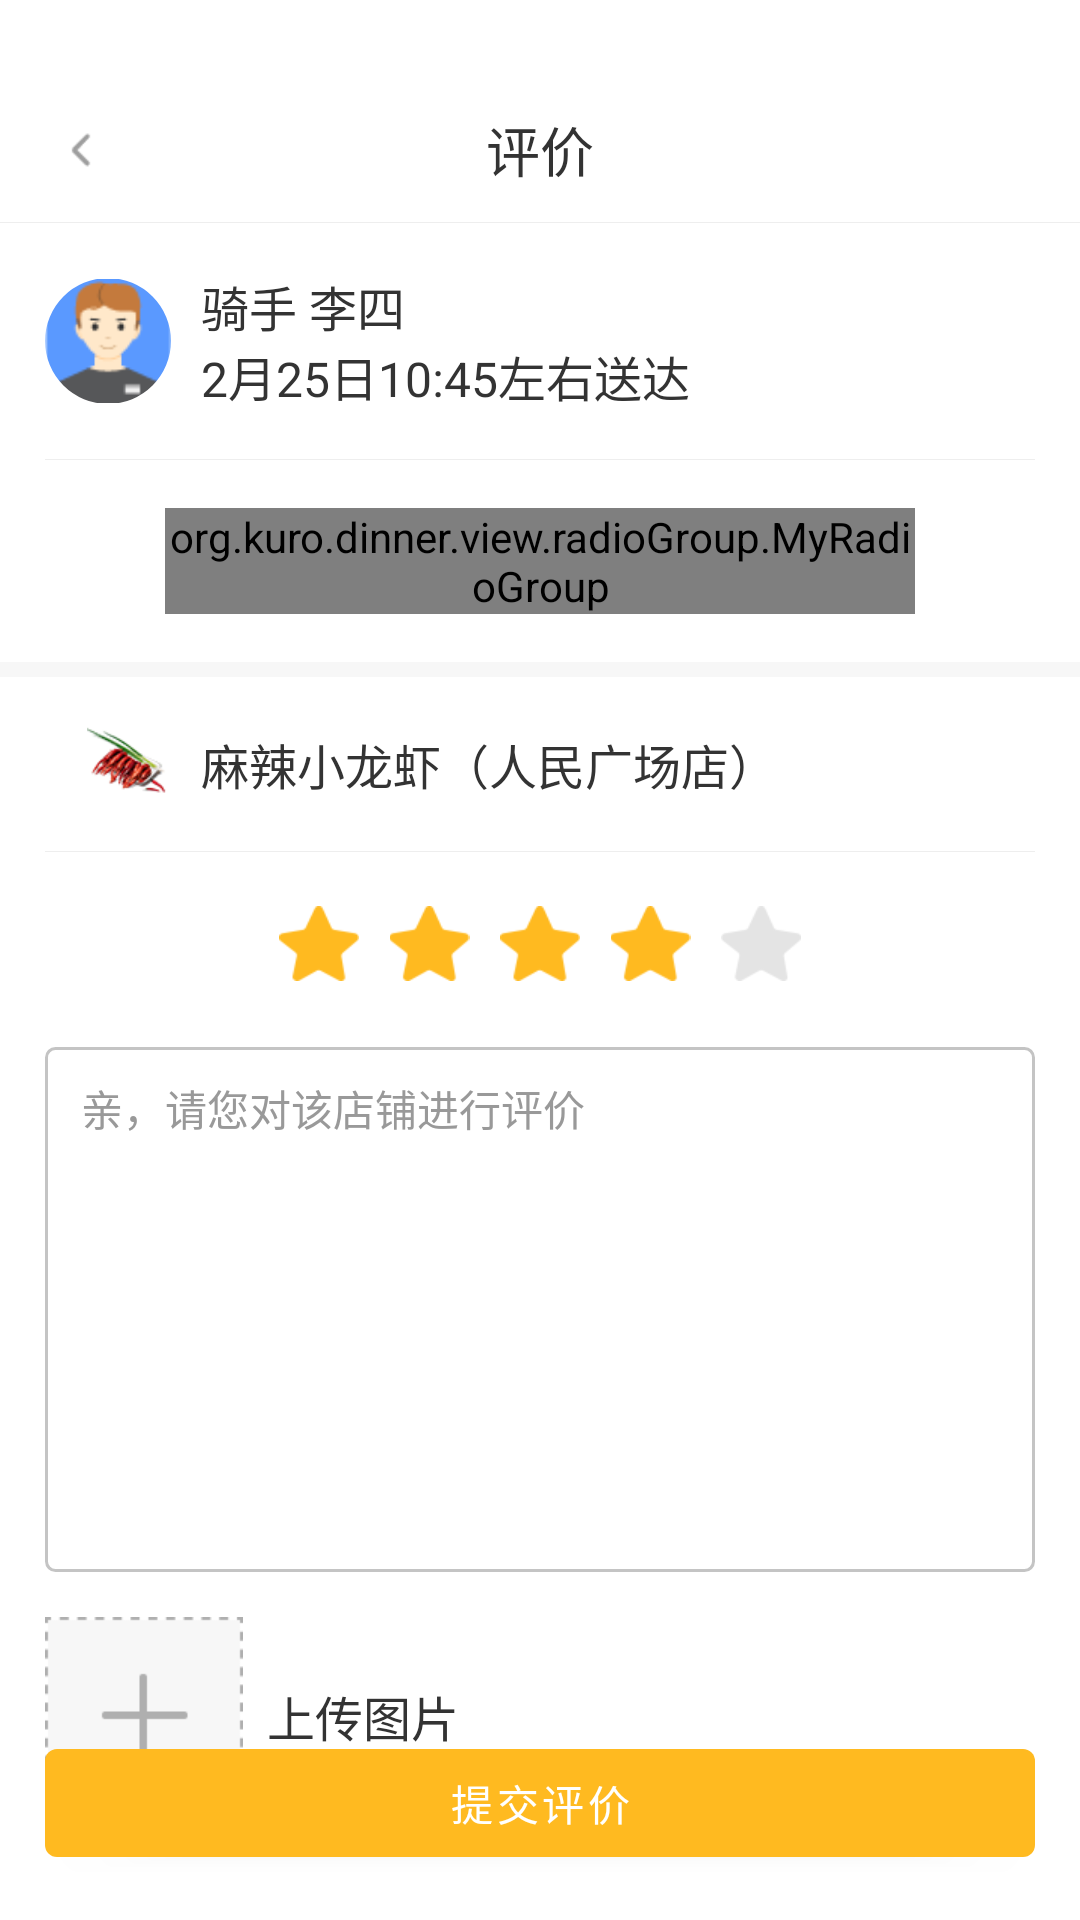

Locate icon controls on the screen. Image size 1080w x 1920h, boxes as box(x1, y1, x2, y2).
star: box(279, 906, 359, 981), box(390, 906, 470, 981), box(500, 906, 580, 981), box(611, 906, 691, 981), box(723, 906, 801, 981)
